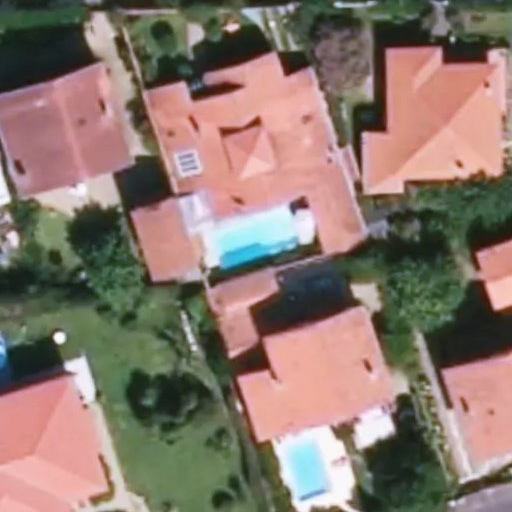pool: (210, 234, 300, 248)
